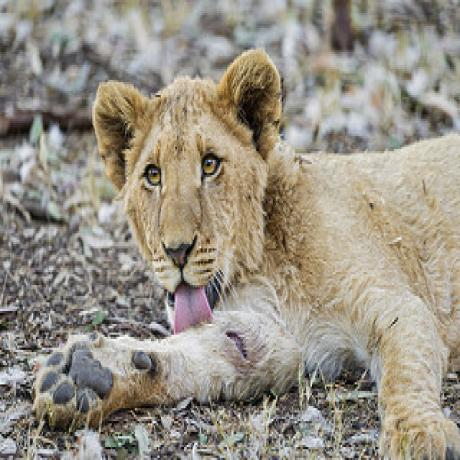Lion: (30, 41, 460, 460)
